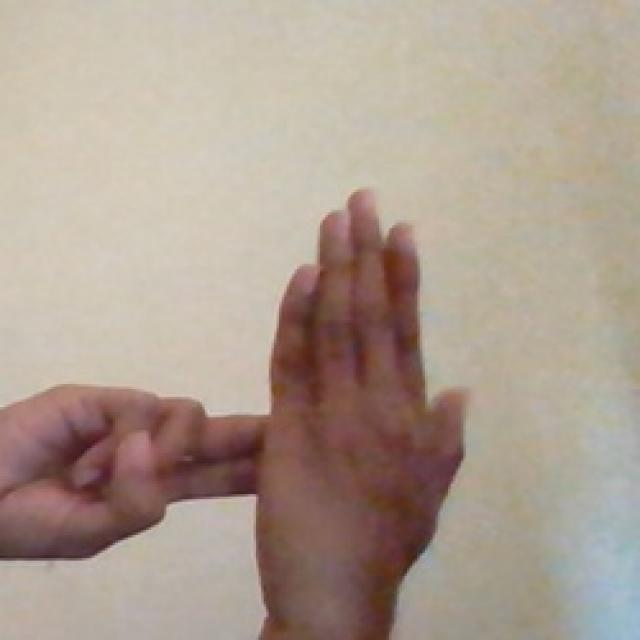Alphabet-N: (0, 171, 463, 632)
